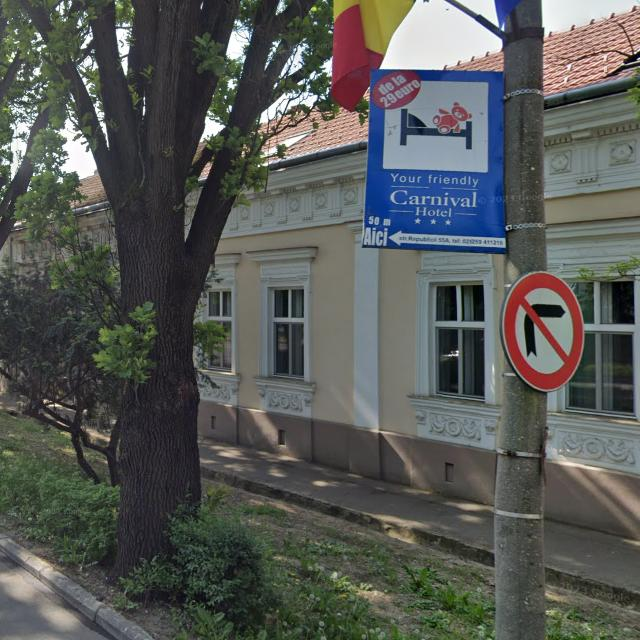forb_right: (500, 270, 585, 390)
